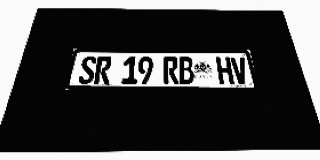1: (121, 56, 138, 84)
9: (137, 57, 153, 84)
B: (178, 57, 195, 84)
H: (216, 57, 234, 84)
R: (94, 56, 112, 84), (163, 57, 179, 84)
S: (77, 56, 97, 84)
V: (230, 57, 250, 84)
